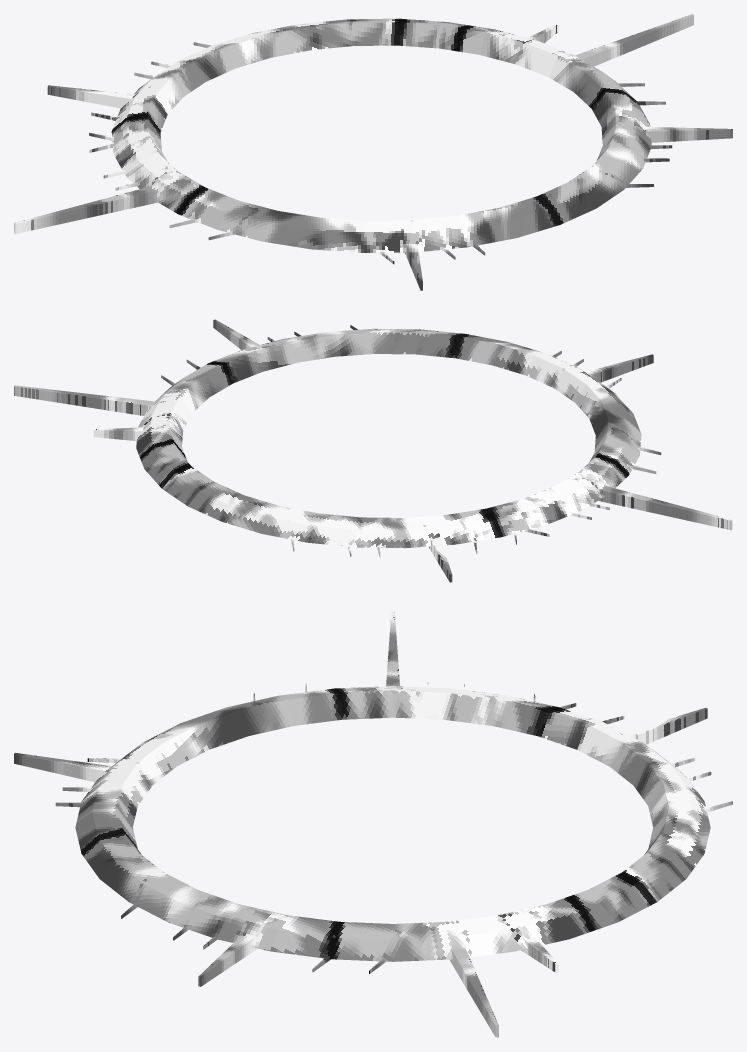
Rendered from station.glb.
3 views of the same model, one above another, from view 1: azimuth 30°, elevation 25°; view 2: azimuth 150°, elevation 25°; view 3: azimuth 270°, elevation 25° (orthographic). The views are drawn at different scales.
Parts seen in each view (by area): view 1: station; view 2: station; view 3: station.
Boxes of the visible parts, x1,y1,x2,y2 form: station: [14, 14, 732, 290]; station: [14, 319, 732, 582]; station: [14, 611, 732, 1037].
Bounding box in the file's own units: 123 × 3.82 × 90.53.
Materials: 1 (1 with a texture image).
